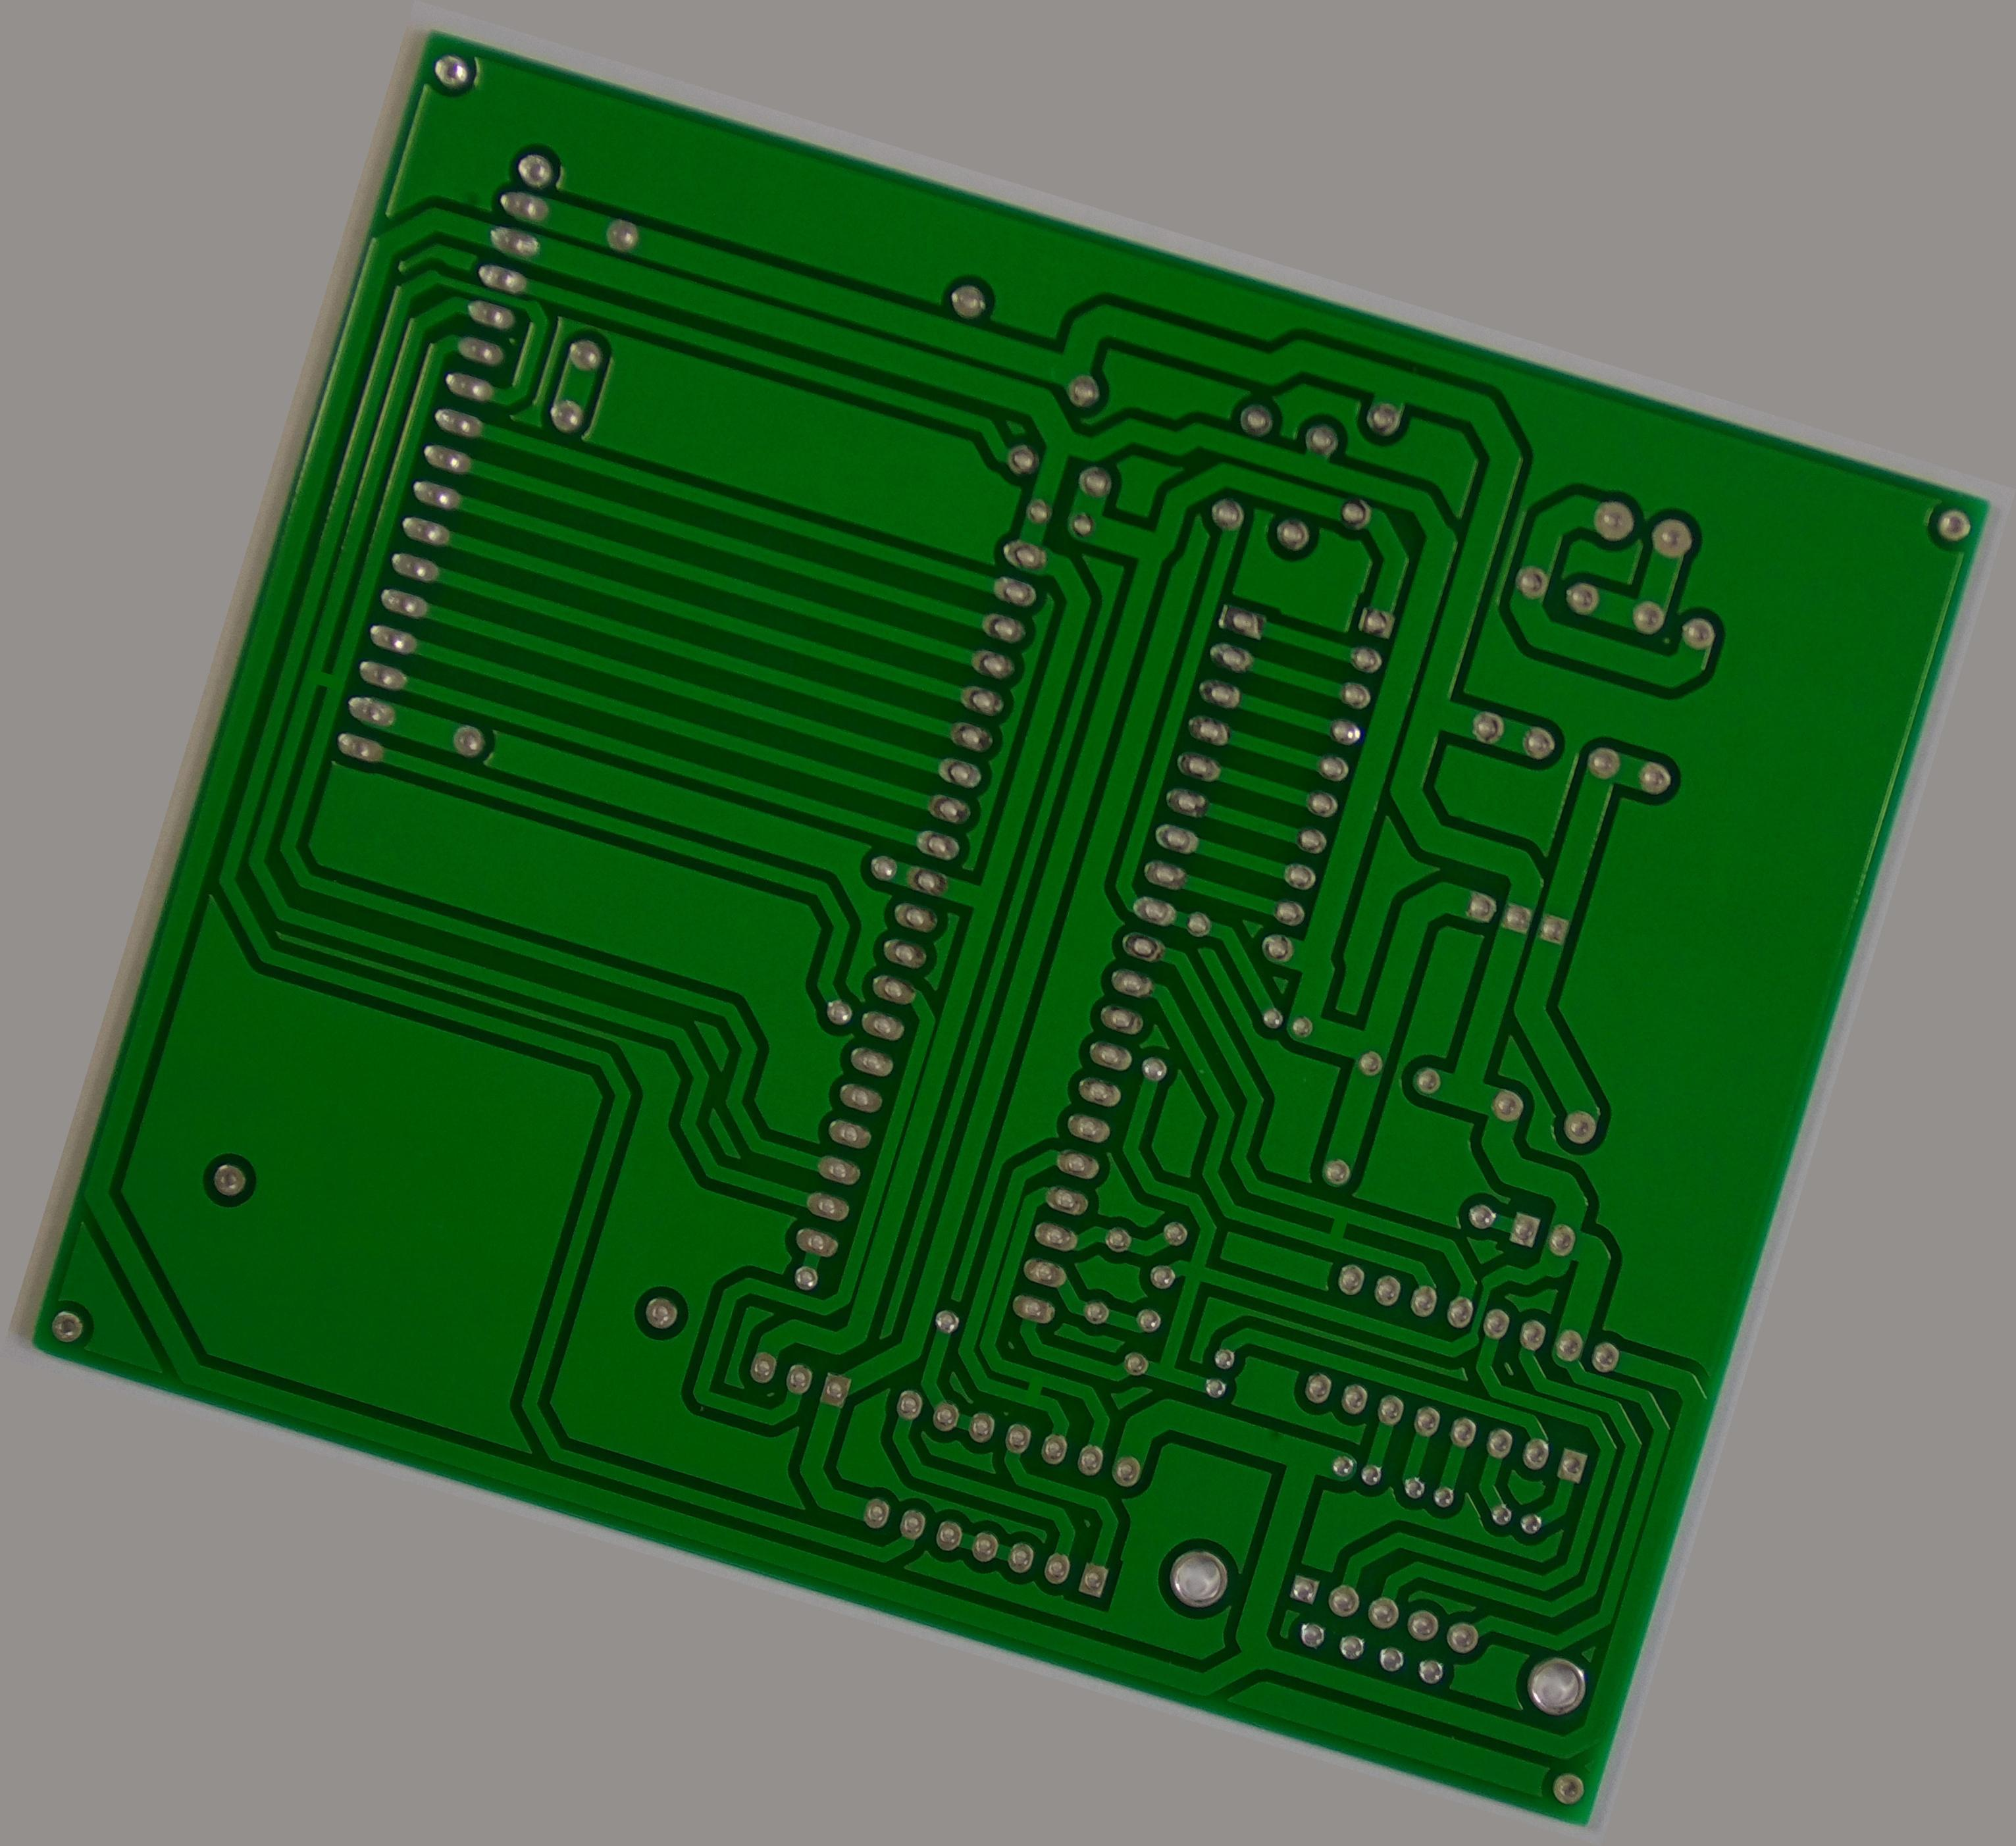short: (1303, 1198, 1366, 1258), (1008, 1358, 1062, 1412), (297, 652, 351, 704)
